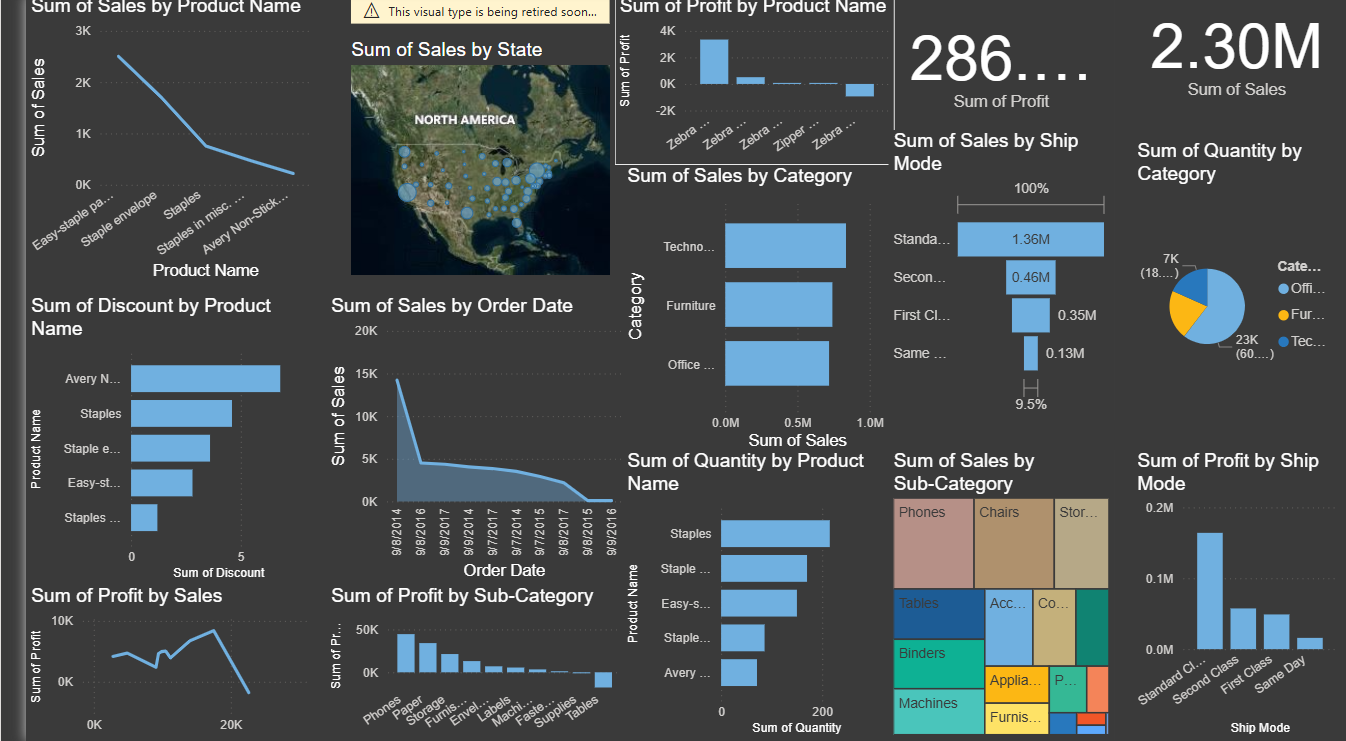

What the dashboard file says about the page in this screenshot:
{"tool":"powerbi","page":{"name":"Page 1","canvas":[1280,720],"ordinal":0},"visuals":[{"type":"lineChart","fields":{"Category":["Sample - Superstore.Product Name"],"Y":["Sum(Sample - Superstore.Sales)"]},"box":[0,0,279.9,279.9],"z":0},{"type":"barChart","fields":{"Category":["Sample - Superstore.Product Name"],"Y":["Sum(Sample - Superstore.Discount)"]},"box":[0,290,280,280],"z":1000},{"type":"lineChart","fields":{"Y":["Sum(Sample - Superstore.Profit)"],"Category":["Sample - Superstore.Sales"]},"box":[0,569.5,279.9,150.9],"z":2000},{"type":"card","fields":{"Values":["Sum(Sample - Superstore.Sales)"]},"box":[1056.6,0,223.7,107],"z":4000},{"type":"card","fields":{"Values":["Sum(Sample - Superstore.Profit)"]},"box":[832.9,0,218.2,130.4],"z":5000},{"type":"areaChart","fields":{"Category":["Sample - Superstore.Order Date"],"Y":["Sum(Sample - Superstore.Sales)"]},"box":[290,290,290,280],"z":6000},{"type":"lineStackedColumnComboChart","fields":{"Category":["Sample - Superstore.Product Name"],"Y":["Sum(Sample - Superstore.Profit)"]},"box":[568.1,0,270.3,164.7],"z":7001},{"type":"barChart","fields":{"Category":["Sample - Superstore.Category"],"Y":["Sum(Sample - Superstore.Sales)"]},"box":[575,164.7,258,279.9],"z":7002},{"type":"clusteredBarChart","fields":{"Category":["Sample - Superstore.Product Name"],"Y":["Sum(Sample - Superstore.Quantity)"]},"box":[575,439.1,258,279.9],"z":7003},{"type":"pieChart","fields":{"Category":["Sample - Superstore.Category"],"Y":["Sum(Sample - Superstore.Quantity)"]},"box":[1067.6,140,203.1,279.9],"z":7004},{"type":"columnChart","fields":{"Category":["Sample - Superstore.Sub-Category"],"Y":["Sum(Sample - Superstore.Profit)"]},"box":[290,570,290,150],"z":7005},{"type":"map","fields":{"Category":["Sample - Superstore.State"],"Size":["Sum(Sample - Superstore.Sales)"]},"box":[308.8,3.6,259.4,266.6],"z":7006},{"type":"funnel","fields":{"Category":["Sample - Superstore.Ship Mode"],"Y":["Sum(Sample - Superstore.Sales)"]},"box":[832.9,130.4,218.2,279.9],"z":7007},{"type":"treemap","fields":{"Values":["Sum(Sample - Superstore.Sales)"],"Details":["Sample - Superstore.Sub-Category"]},"box":[833,439,218,280],"z":7008},{"type":"columnChart","fields":{"Y":["Sum(Sample - Superstore.Profit)"],"Category":["Sample - Superstore.Ship Mode"]},"box":[1068,439,203,280],"z":7009}]}

Visuals, with their boxes in screenshot pixels (x1, y1, x2, y2), scaled from the page's 1280x720 canvas onto the 1346x741 screenshot:
lineChart - Sample - Superstore.Product Name x Sum(Sample - Superstore.Sales): region(0, 0, 294, 288)
barChart - Sample - Superstore.Product Name x Sum(Sample - Superstore.Discount): region(0, 298, 294, 587)
lineChart - Sum(Sample - Superstore.Profit) x Sample - Superstore.Sales: region(0, 586, 294, 740)
card - Sum(Sample - Superstore.Sales): region(1111, 0, 1345, 110)
card - Sum(Sample - Superstore.Profit): region(876, 0, 1105, 134)
areaChart - Sample - Superstore.Order Date x Sum(Sample - Superstore.Sales): region(305, 298, 610, 587)
lineStackedColumnComboChart - Sample - Superstore.Product Name x Sum(Sample - Superstore.Profit): region(597, 0, 882, 170)
barChart - Sample - Superstore.Category x Sum(Sample - Superstore.Sales): region(605, 170, 876, 458)
clusteredBarChart - Sample - Superstore.Product Name x Sum(Sample - Superstore.Quantity): region(605, 452, 876, 740)
pieChart - Sample - Superstore.Category x Sum(Sample - Superstore.Quantity): region(1123, 144, 1336, 432)
columnChart - Sample - Superstore.Sub-Category x Sum(Sample - Superstore.Profit): region(305, 587, 610, 740)
map - Sample - Superstore.State x Sum(Sample - Superstore.Sales): region(325, 4, 597, 278)
funnel - Sample - Superstore.Ship Mode x Sum(Sample - Superstore.Sales): region(876, 134, 1105, 422)
treemap - Sum(Sample - Superstore.Sales) x Sample - Superstore.Sub-Category: region(876, 452, 1105, 740)
columnChart - Sum(Sample - Superstore.Profit) x Sample - Superstore.Ship Mode: region(1123, 452, 1337, 740)
